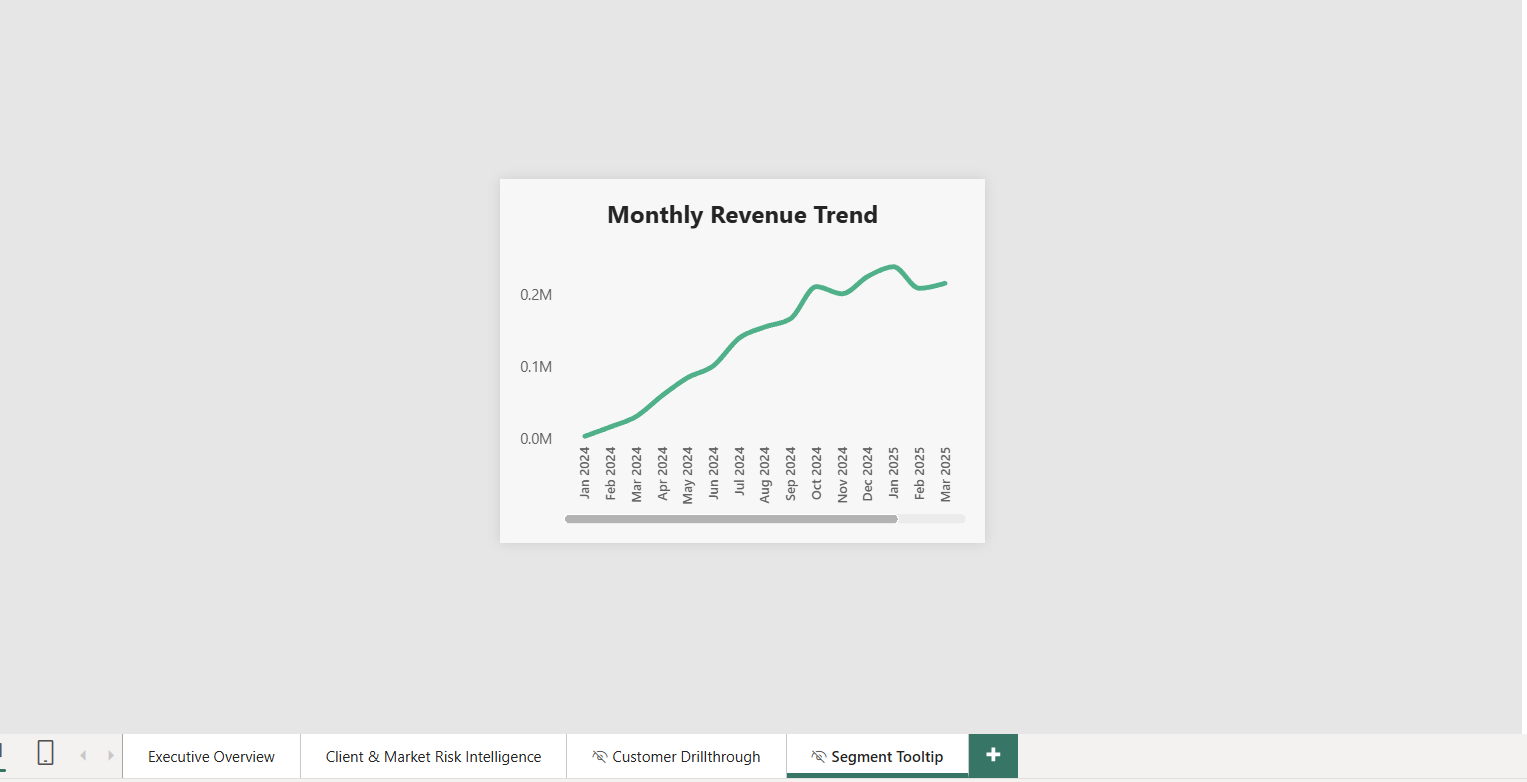

Layout of this report page (visuals, bound fields, positions):
{"tool":"powerbi","page":{"name":"Segment Tooltip","canvas":[400,300],"ordinal":3},"visuals":[{"type":"lineChart","title":"Monthly Revenue Trend","fields":{"Y":["Measures (2).Total Revenue"],"Category":["Date Table.Month-Year"]},"box":[0,0,400,300],"z":0}]}

Visuals, with their boxes on the page's 400x300 design canvas (x1, y1, x2, y2). These are canvas units, not pixel positions in the 1527x782 screenshot, which may show the page scaled, cropped or inside an application window:
"Monthly Revenue Trend" lineChart: pyautogui.locateOnScreen(0, 0, 400, 300)
